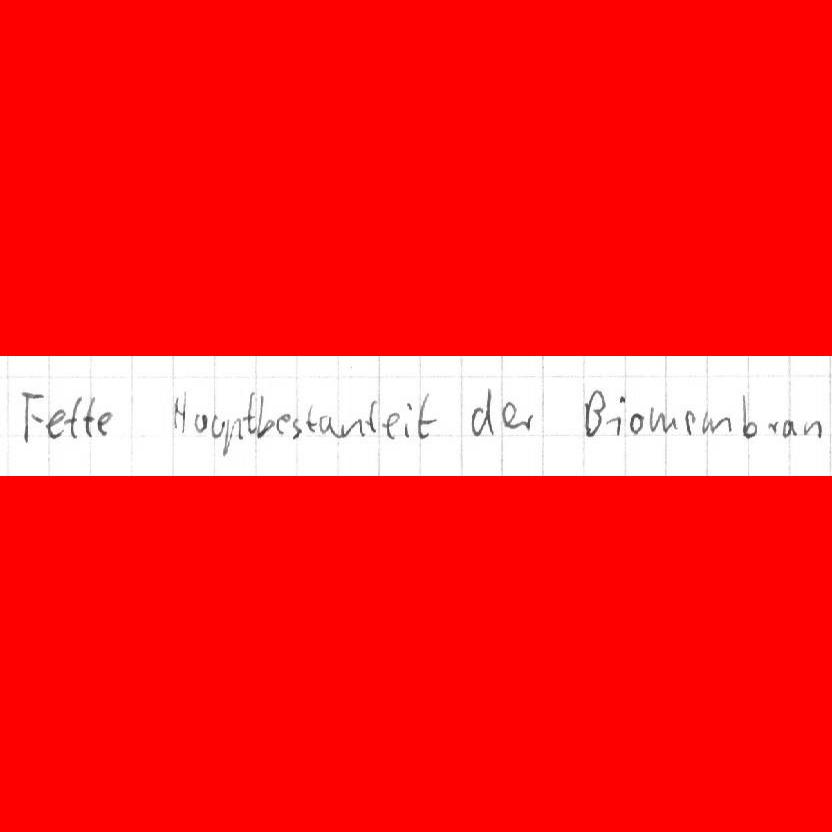Char: (467, 385, 497, 438), (18, 385, 43, 448), (415, 390, 436, 443), (583, 388, 605, 437), (738, 390, 758, 439), (221, 415, 243, 456), (701, 410, 733, 436), (171, 390, 189, 434), (258, 395, 276, 438), (67, 393, 83, 441), (241, 389, 258, 434), (650, 408, 676, 434), (45, 408, 65, 440), (613, 392, 627, 436), (82, 396, 96, 440), (363, 398, 378, 437), (799, 417, 825, 438), (383, 410, 401, 440), (339, 417, 364, 438), (96, 409, 114, 438), (303, 404, 319, 436), (319, 414, 340, 437), (403, 400, 414, 440), (502, 400, 518, 427), (628, 413, 645, 437), (192, 409, 207, 434), (210, 413, 224, 439), (682, 408, 696, 433), (277, 412, 291, 435), (765, 418, 781, 438), (782, 418, 797, 439), (521, 411, 535, 433), (291, 417, 302, 440)
